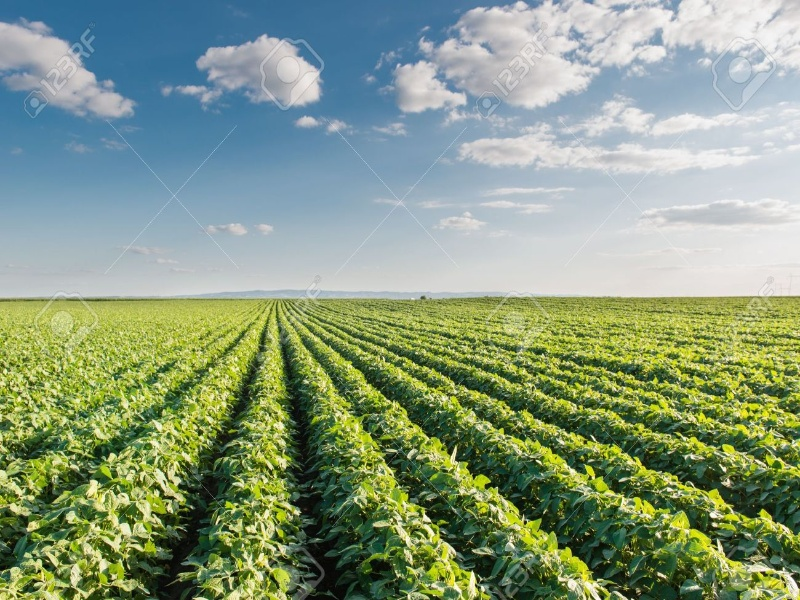soyabean: (432, 412, 776, 591), (12, 410, 197, 593), (326, 427, 477, 598), (432, 471, 594, 589), (202, 428, 294, 594)
